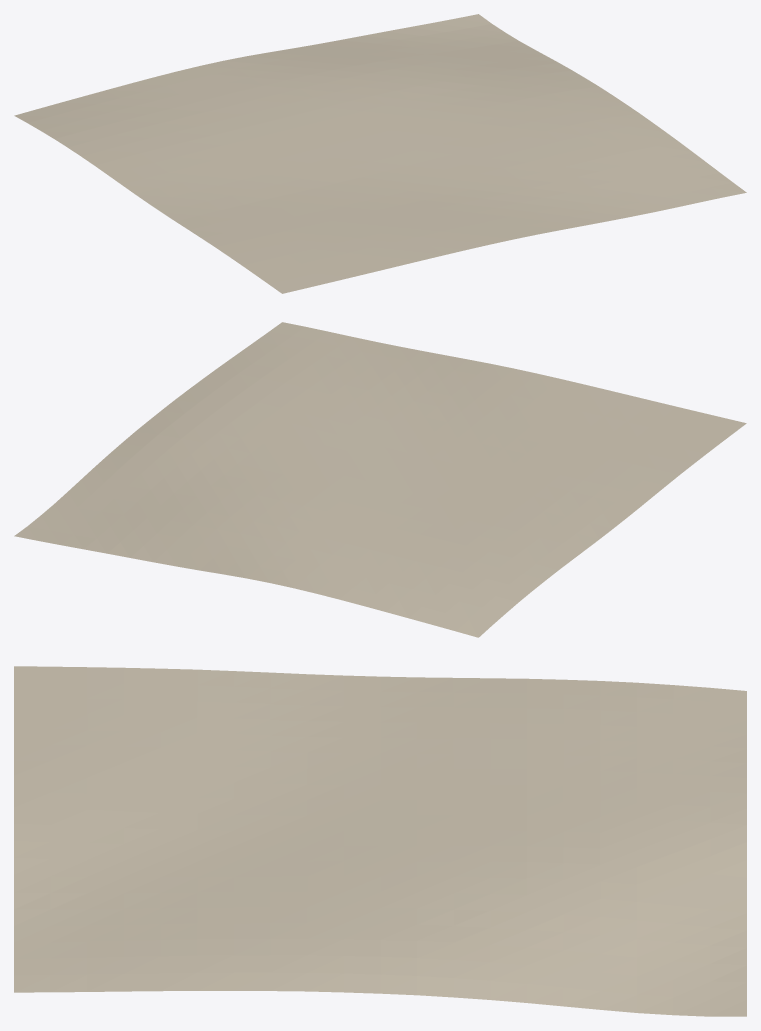
Rendered from bolak_-21_8.glb.
3 renders of one model, top to bottom at view 1: azimuth 30°, elevation 25°; view 2: azimuth 150°, elevation 25°; view 3: azimuth 270°, elevation 25°, orthographic. The views are drawn at different scales.
Visible parts, largest first — view 1: Yer_Tuproq-col; view 2: Yer_Tuproq-col; view 3: Yer_Tuproq-col.
Boxes of the visible parts, x1=… form: Yer_Tuproq-col: x1=14, y1=14, x2=746, y2=293; Yer_Tuproq-col: x1=14, y1=322, x2=746, y2=637; Yer_Tuproq-col: x1=14, y1=666, x2=746, y2=1016.
Bounding box in the file's own units: 400 × 24.58 × 400.
